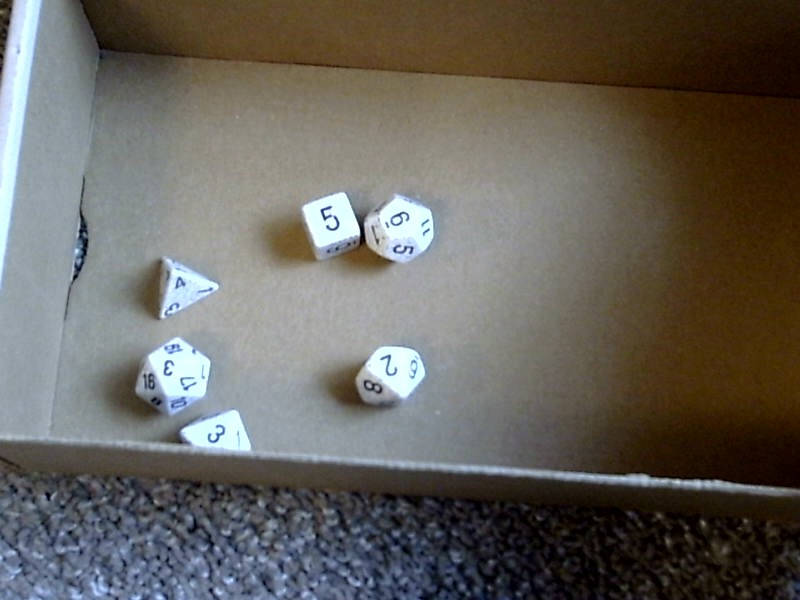d10 2: (344, 339, 434, 418)
d12 6: (366, 184, 438, 270)
d20 3: (128, 333, 211, 416)
d4 4: (148, 247, 223, 327)
d6 5: (288, 184, 363, 270)
d8 3: (175, 408, 266, 459)
